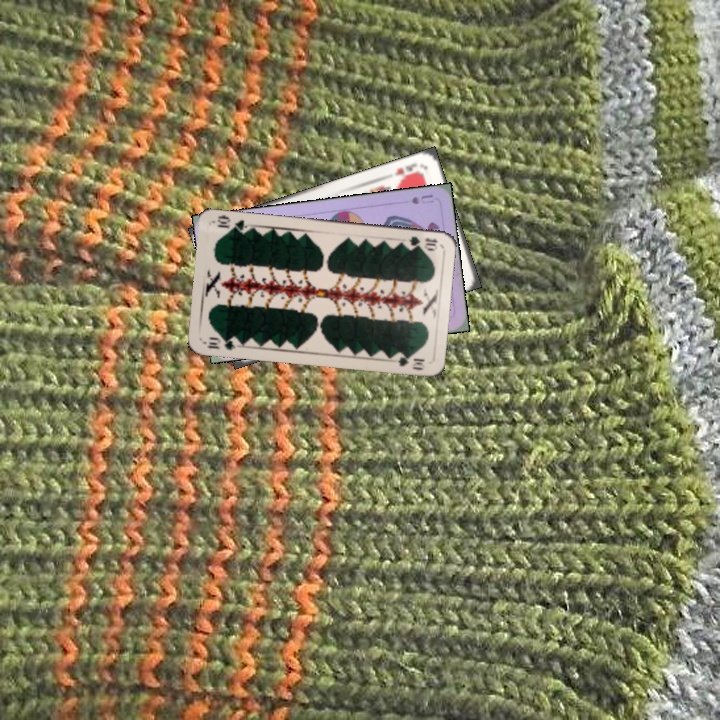G10: (203, 333, 242, 353), (405, 232, 440, 252)
HK: (390, 159, 420, 178)
SU: (407, 190, 436, 207)
